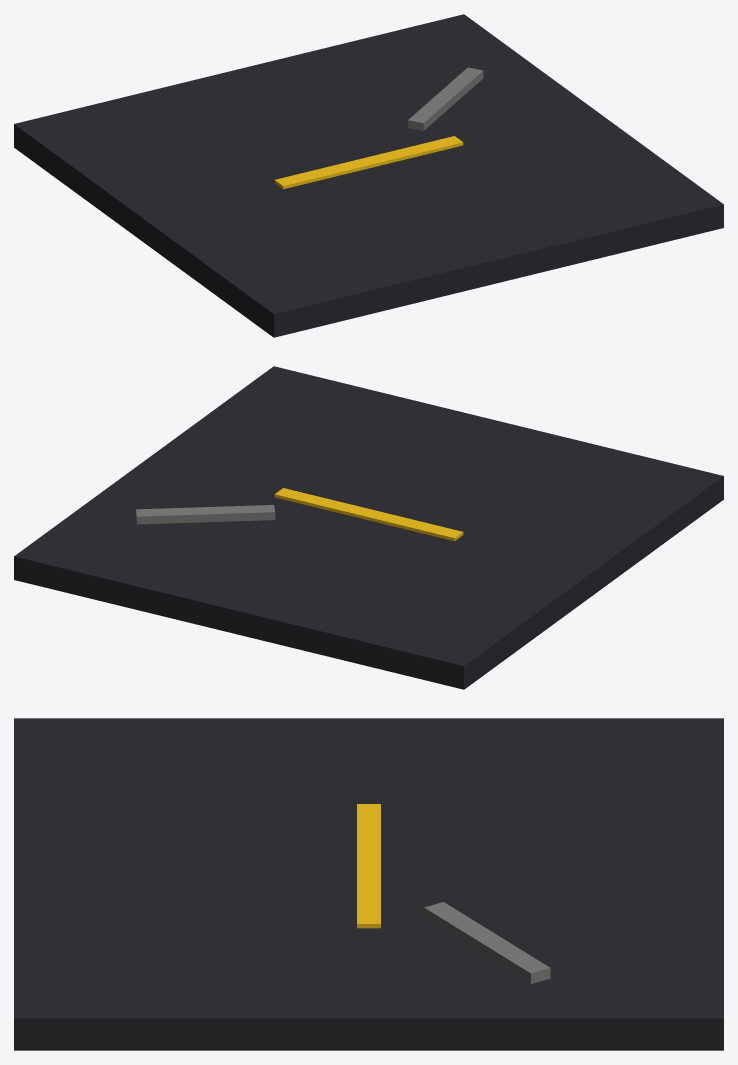
File: cracked_road_slab.glb
3 renders of one model, top to bottom at view 1: azimuth 30°, elevation 25°; view 2: azimuth 150°, elevation 25°; view 3: azimuth 270°, elevation 25°, orthographic. The views are drawn at different scales.
Parts seen in each view (by area): view 1: cracked_road_slab; view 2: cracked_road_slab; view 3: cracked_road_slab.
Part boxes in pixels (x1,y1,x2,y2): cracked_road_slab: (14,14,723,337); cracked_road_slab: (14,366,723,689); cracked_road_slab: (14,718,723,1050).
Size of the model in its own units: 3 by 0.2 by 3.
